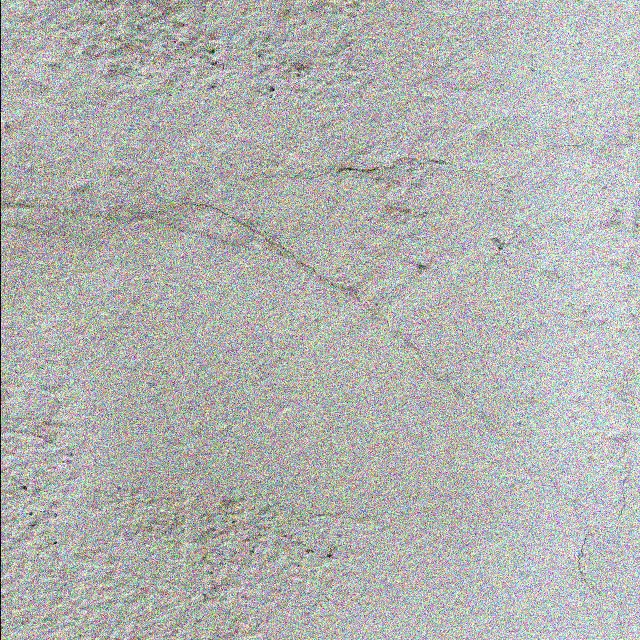SurfaceCrack: (1, 176, 595, 472)
